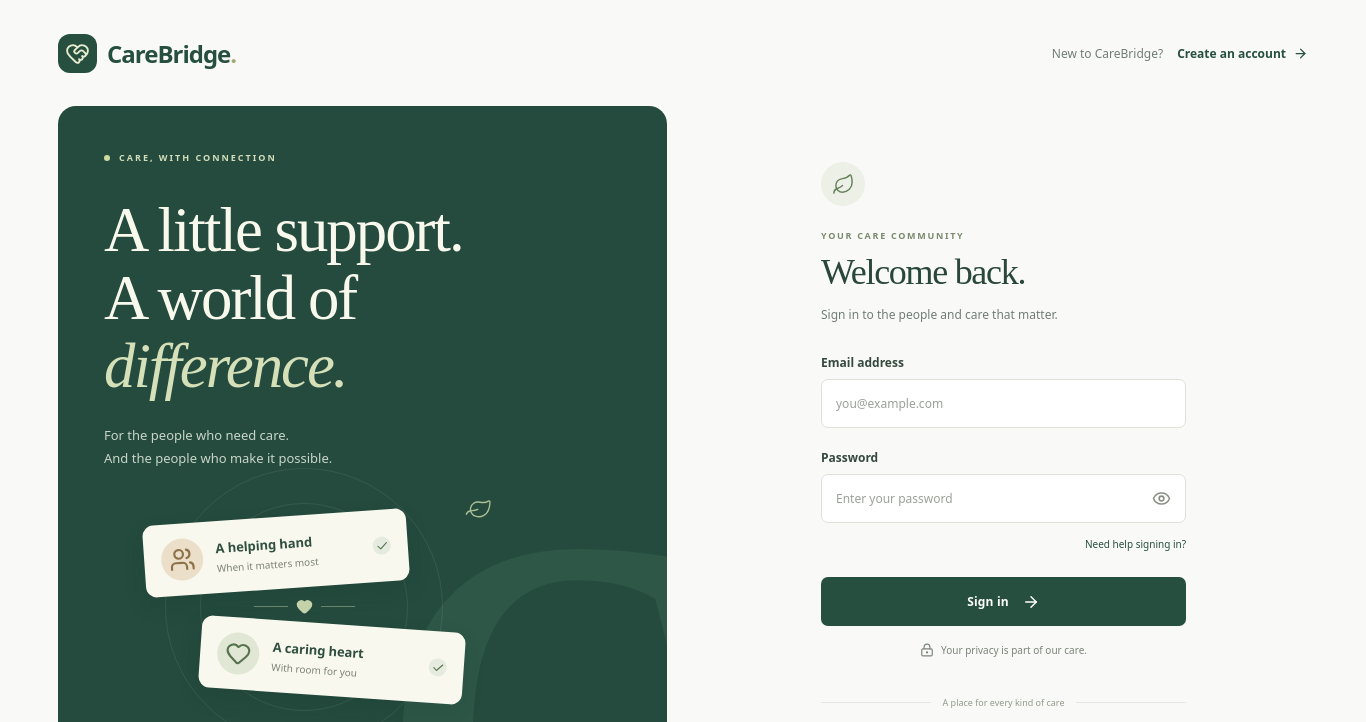
CareBridge authentication › shows a sanitized login error and keeps the user on the form
The width and height of the screenshot is (1366, 722).
Type "unknown@example.com" into the field labelled "Email address".
click(1004, 404); type("unknown@example.com")  # box [821, 379, 1186, 428]
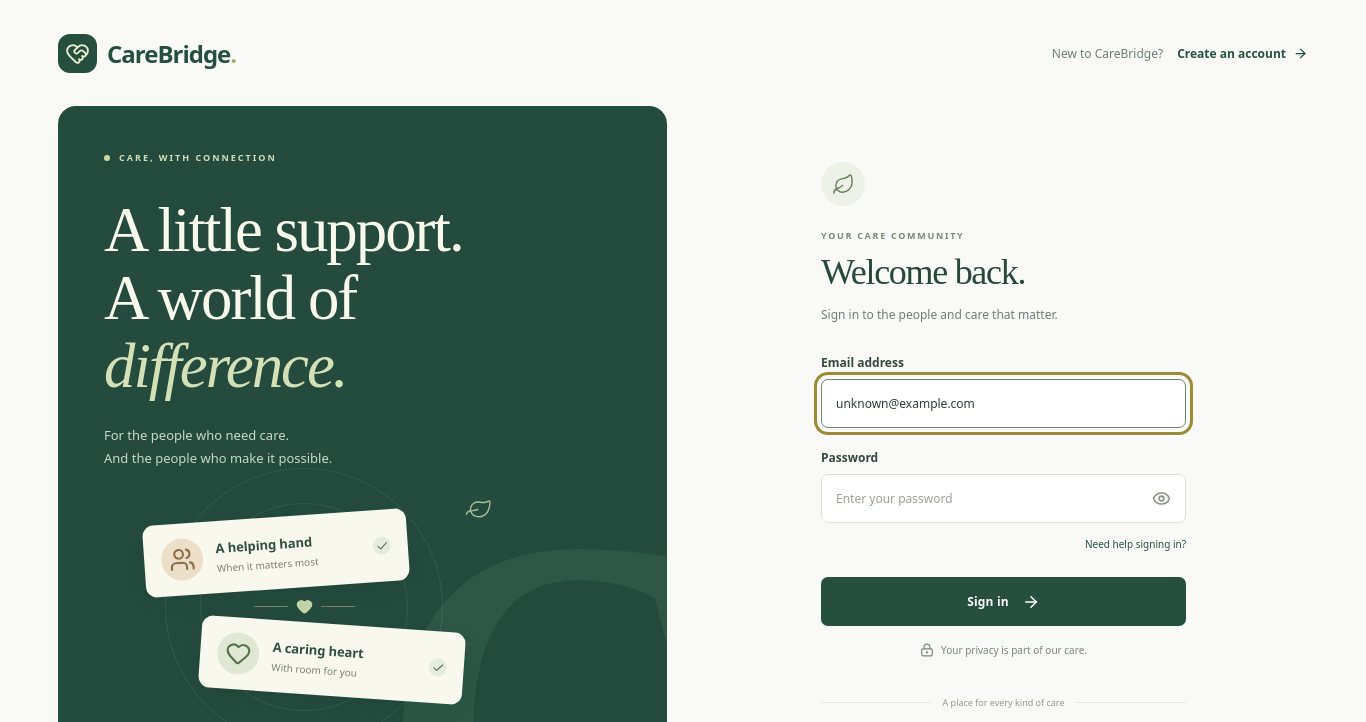
Type "wrong-password" into the password field labelled "Password".
click(1004, 499); type("wrong-password")  # box [821, 474, 1186, 523]
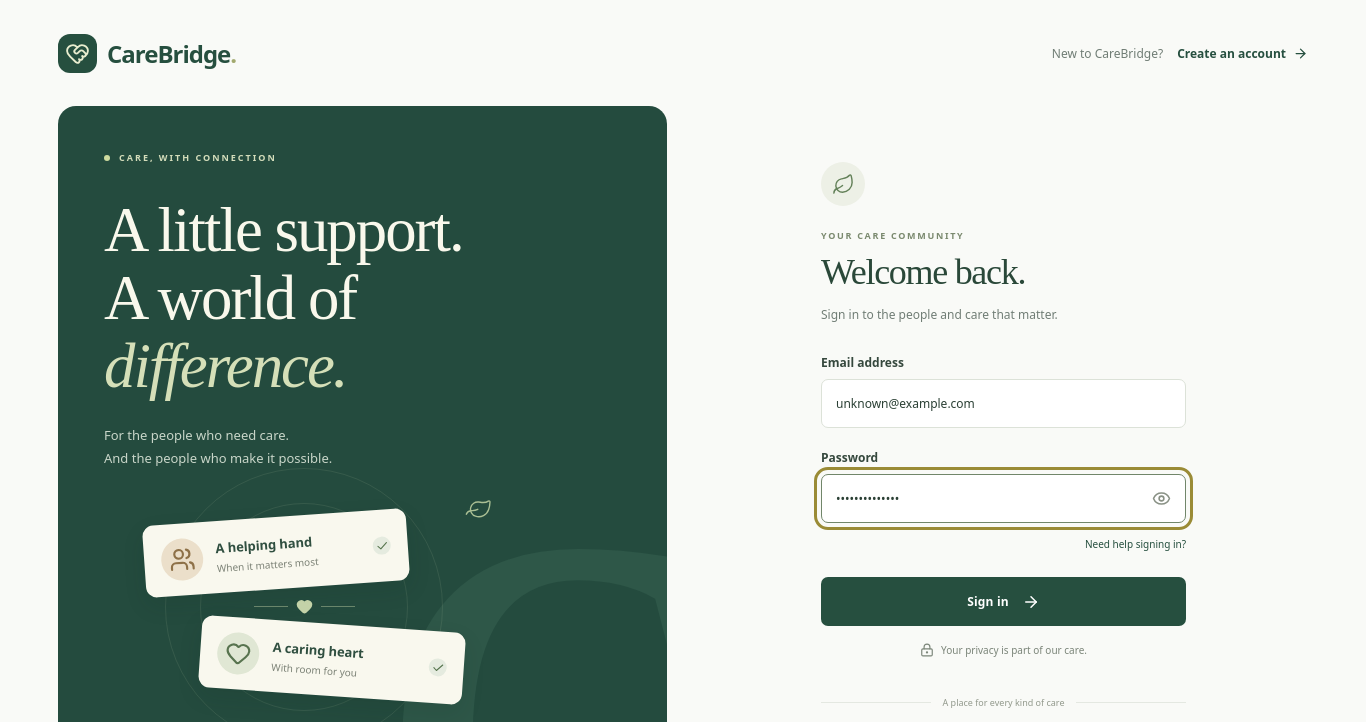
Click the button "Sign in".
click(1004, 602)  # box [821, 577, 1186, 626]
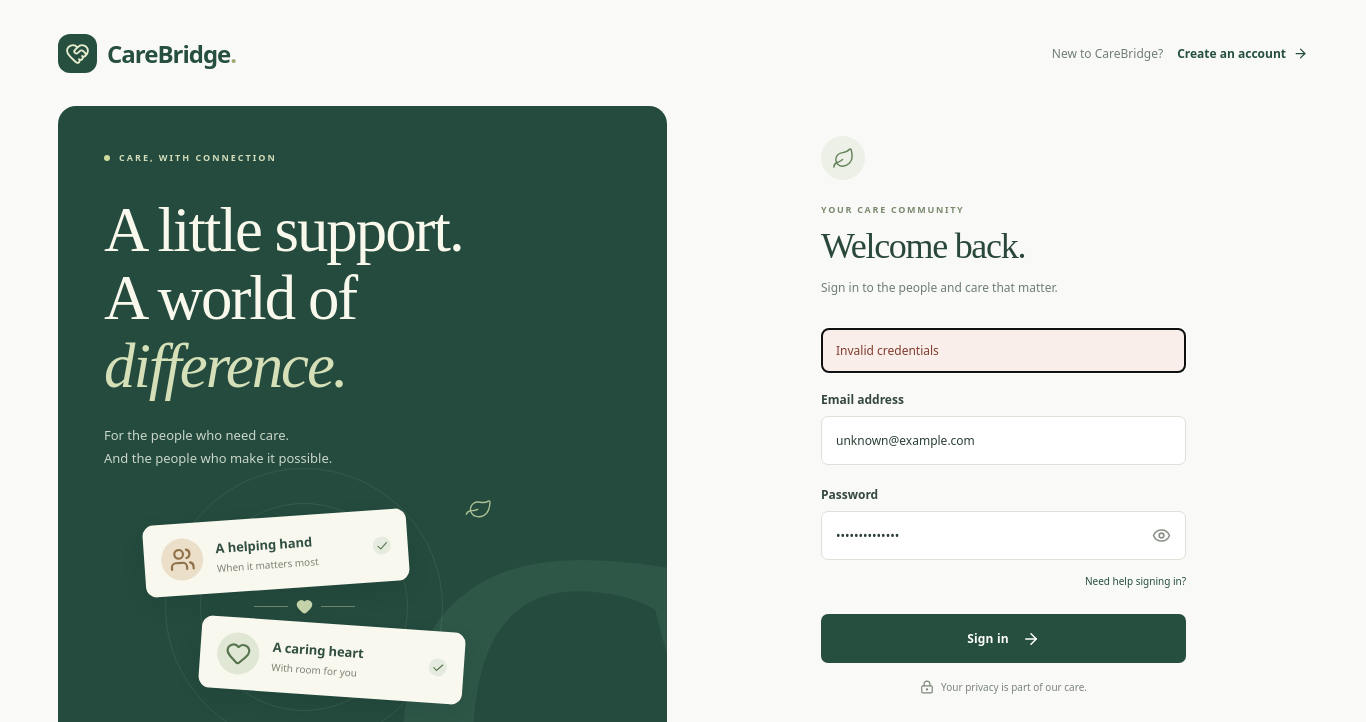
Check: the message reads "Invalid credentials", box [836, 342, 939, 359]
